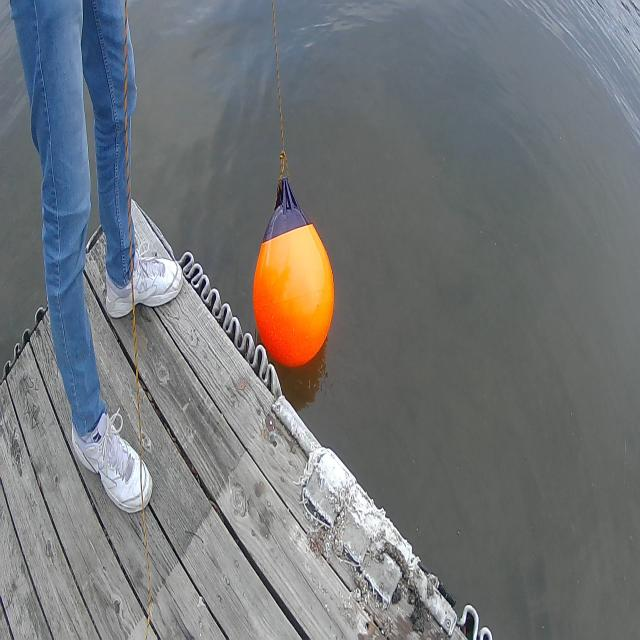Buoy: (242, 190, 341, 382)
